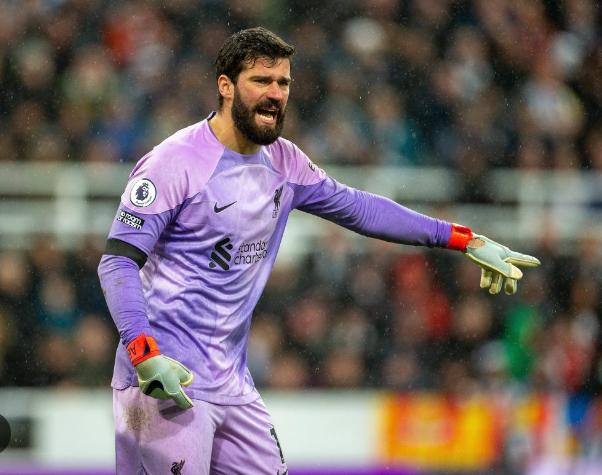goalkeeper: (84, 18, 549, 475)
